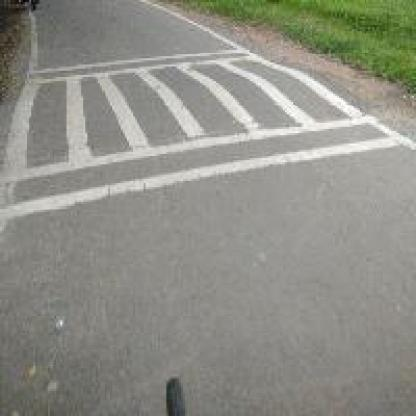Speed Bump: (0, 39, 402, 238)
